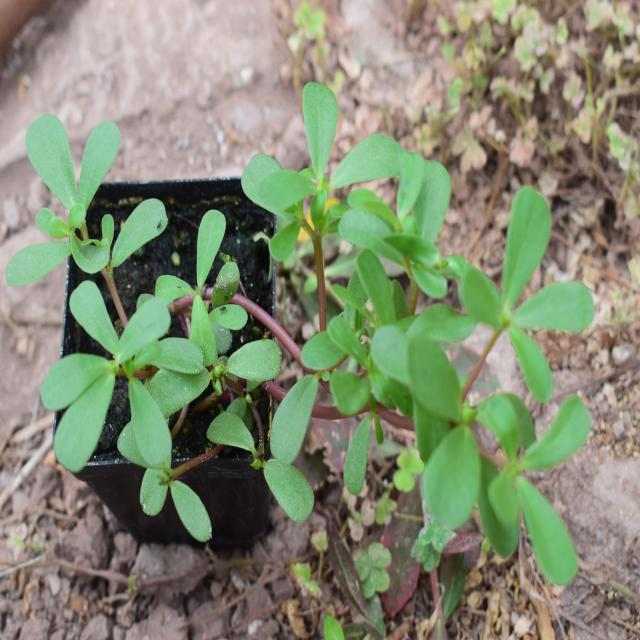purslane: (19, 86, 587, 587)
